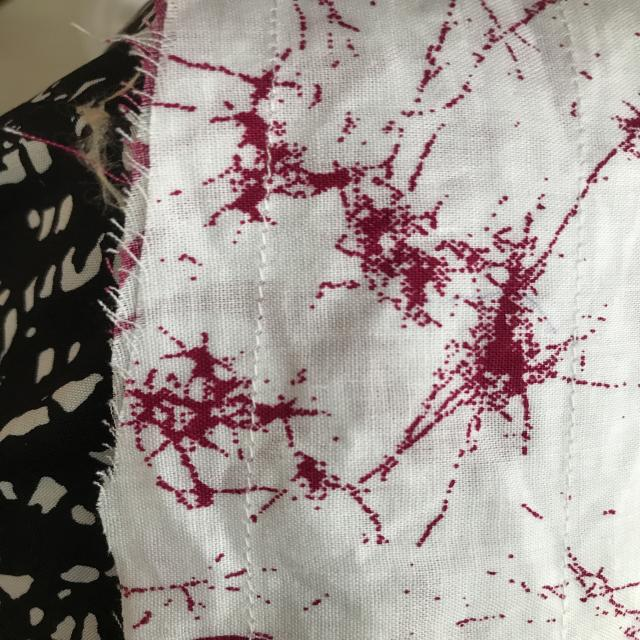good: (232, 460, 269, 602), (244, 256, 280, 373)
